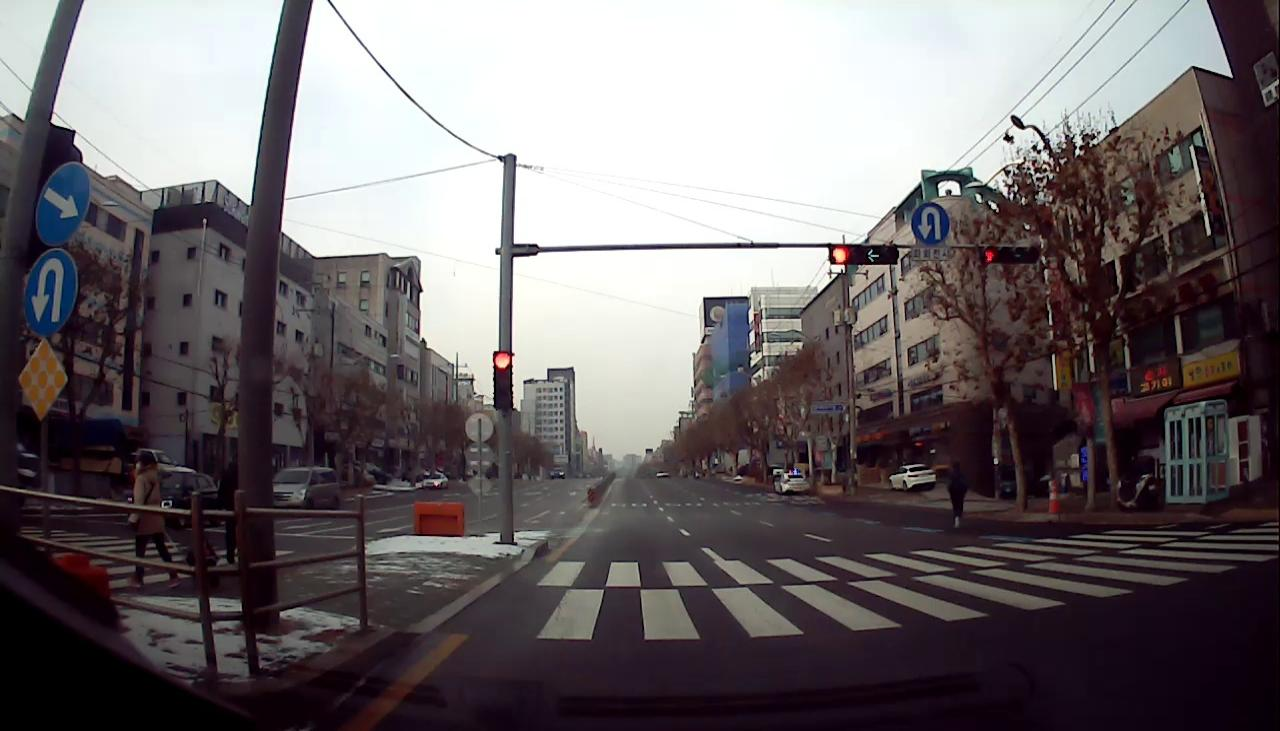Left turn: (863, 245, 880, 264)
Red Light: (830, 245, 849, 264), (980, 245, 998, 265)
